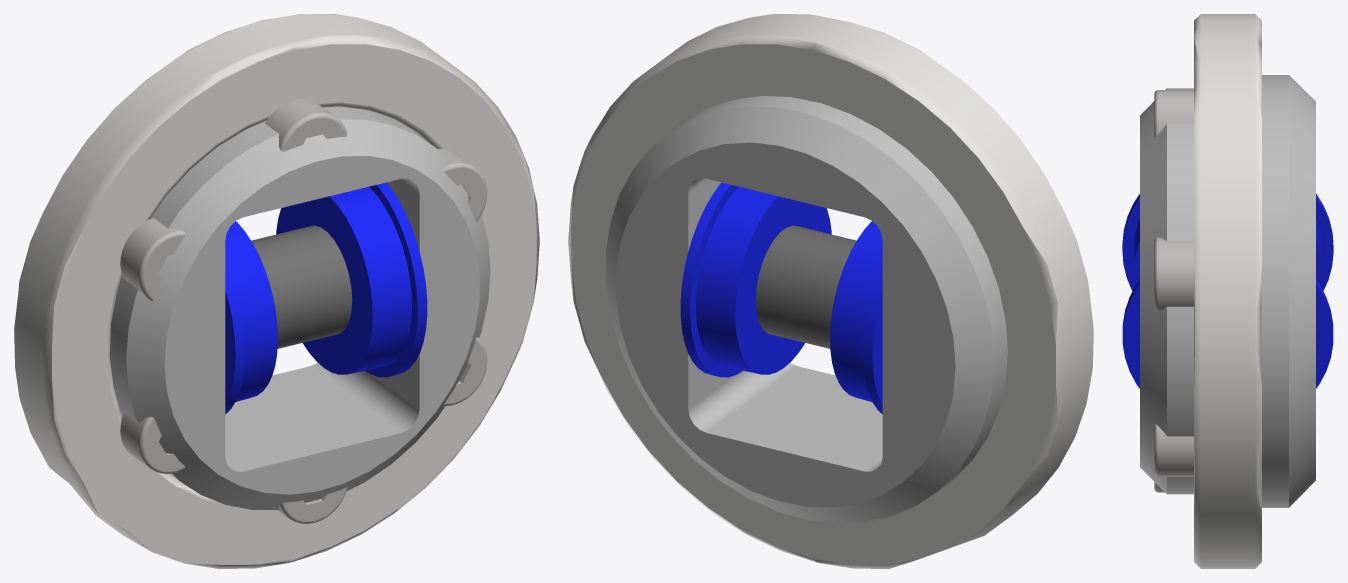
File: hip_center_link.dae
3 views of the same model, side by side, from view 1: azimuth 30°, elevation 25°; view 2: azimuth 150°, elevation 25°; view 3: azimuth 270°, elevation 25° (orthographic). The views are drawn at different scales.
Parts seen in each view (by area): view 1: FBXASC227FBXASC130FBXASC189FBXASC227FBXASC131FBXASC170FBXASC (×11); view 2: FBXASC227FBXASC130FBXASC189FBXASC227FBXASC131FBXASC170FBXASC (×5); view 3: FBXASC227FBXASC130FBXASC189FBXASC227FBXASC131FBXASC170FBXASC (×7).
Boxes of the visible parts, <box> form: FBXASC227FBXASC130FBXASC189FBXASC227FBXASC131FBXASC170FBXASC (×11): <box>14,14,539,568</box>; FBXASC227FBXASC130FBXASC189FBXASC227FBXASC131FBXASC170FBXASC (×5): <box>568,14,1093,568</box>; FBXASC227FBXASC130FBXASC189FBXASC227FBXASC131FBXASC170FBXASC (×7): <box>1122,14,1333,568</box>.
Size of the model in its own units: 0.041 by 0.0156 by 0.041.
